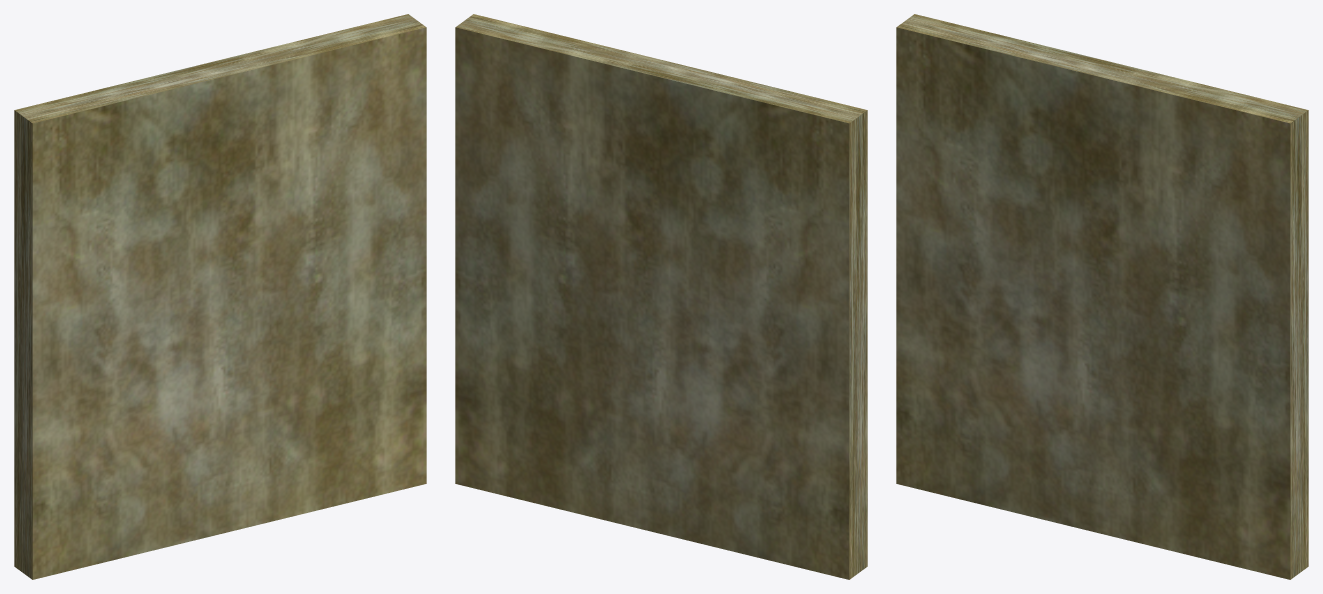
The model's file is WallEmpty.fbx.
3 renders of one model, left to right at view 1: azimuth 30°, elevation 25°; view 2: azimuth 150°, elevation 25°; view 3: azimuth 330°, elevation 25°, orthographic.
Visible parts, largest first — view 1: WallEmpty2; view 2: WallEmpty2; view 3: WallEmpty2.
Part boxes in pixels (bbox=[...]): WallEmpty2: bbox=[14, 14, 426, 579]; WallEmpty2: bbox=[455, 14, 867, 579]; WallEmpty2: bbox=[896, 14, 1308, 579].
Size of the model in its own units: 250 by 277 by 20.
